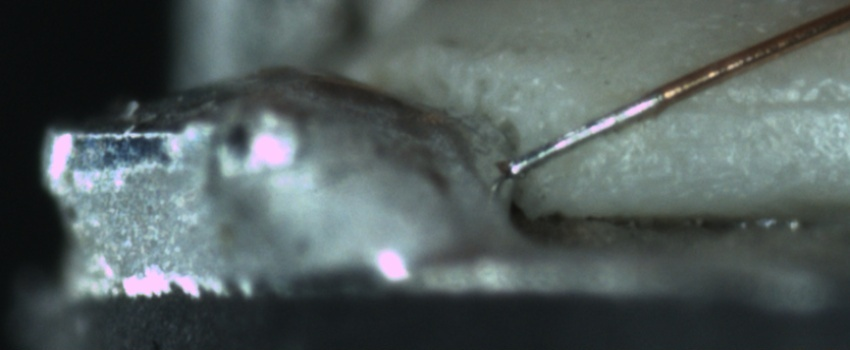DL: (647, 77, 850, 141)
TS: (508, 89, 666, 177)
